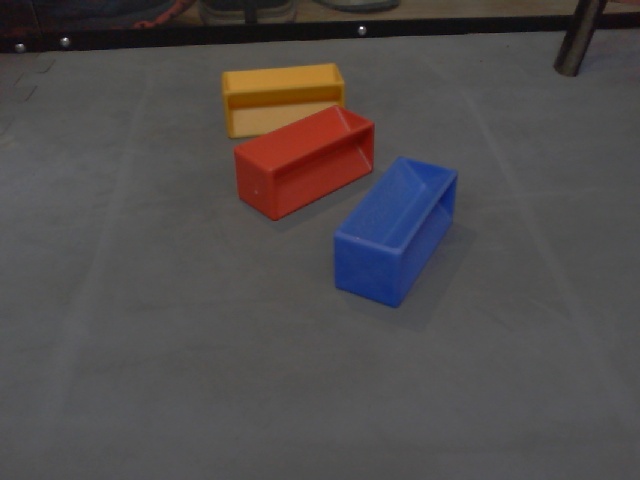BlueSample: (332, 155, 460, 310)
RedSample: (233, 104, 377, 222)
YellowSample: (219, 61, 345, 139)
